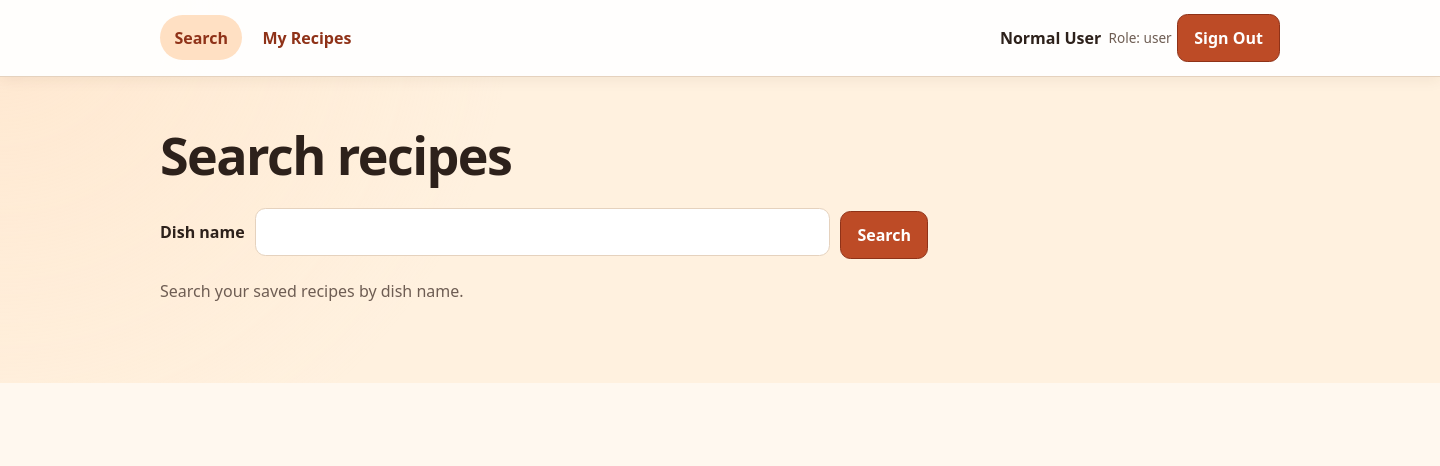
Test case: application shell › shows an alert when sign out fails
Click the button "Sign Out". click: coordinates (1229, 38)
box: [1177,14,1280,62]
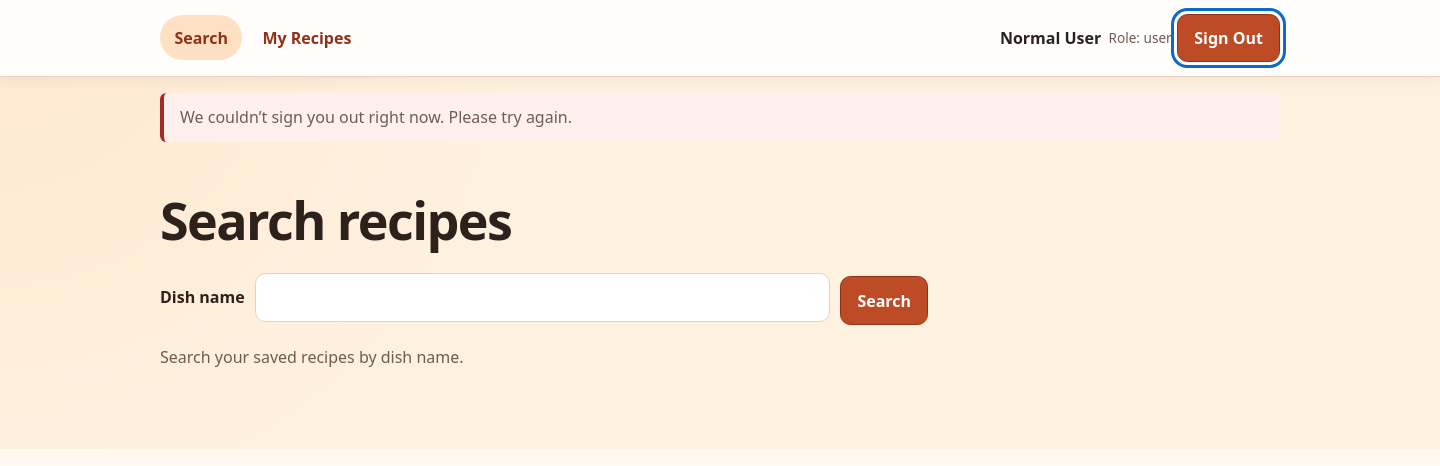
expect the navigation bar named "main" is shown: met, box [160,0,1280,76]
expect the message shows "couldn’t sign you out right now": met, box [180,106,572,128]
